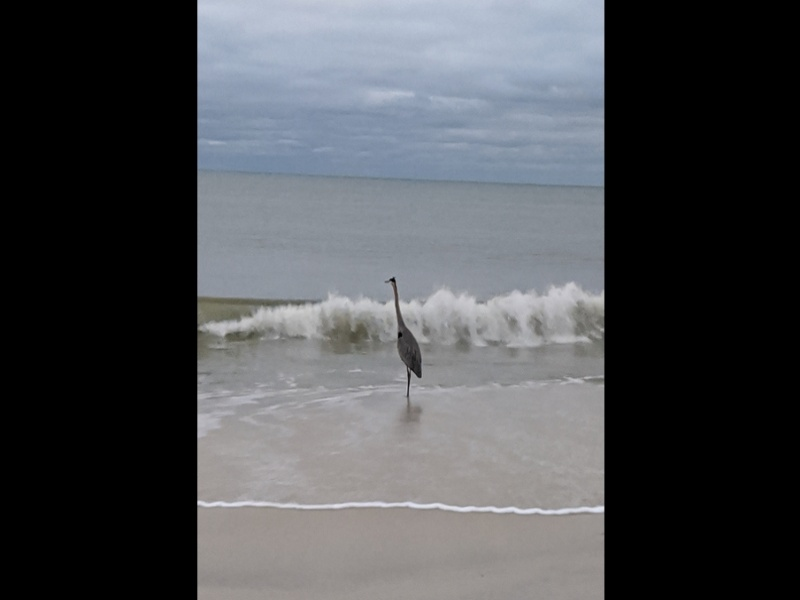heron: (384, 275, 426, 403)
